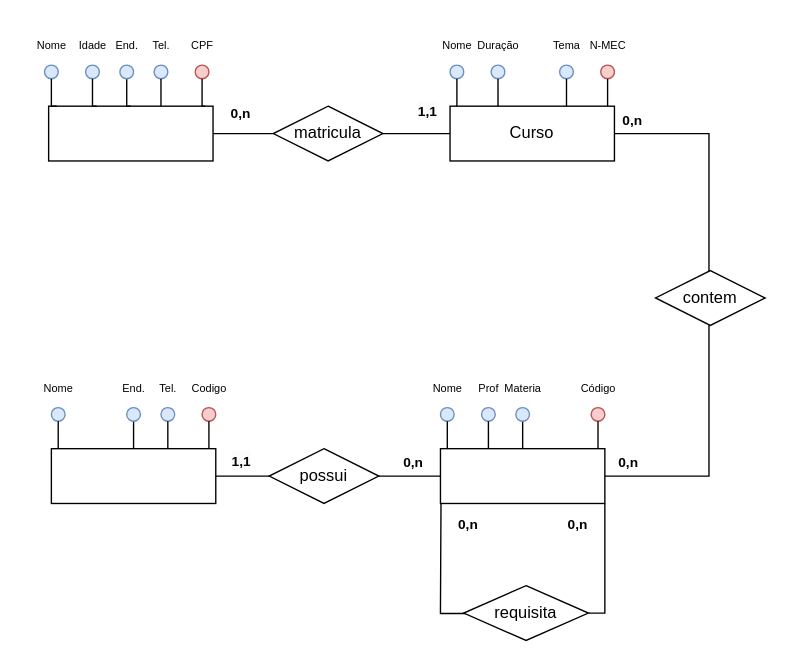
This 789x664 diagram has some shape labels left out. The box of each missing label's shape, as (x1, y1, x2, y2) in pixels:
Aluno: (47, 105, 213, 161)
Departamento: (50, 447, 216, 503)
Disciplina: (439, 447, 605, 503)
